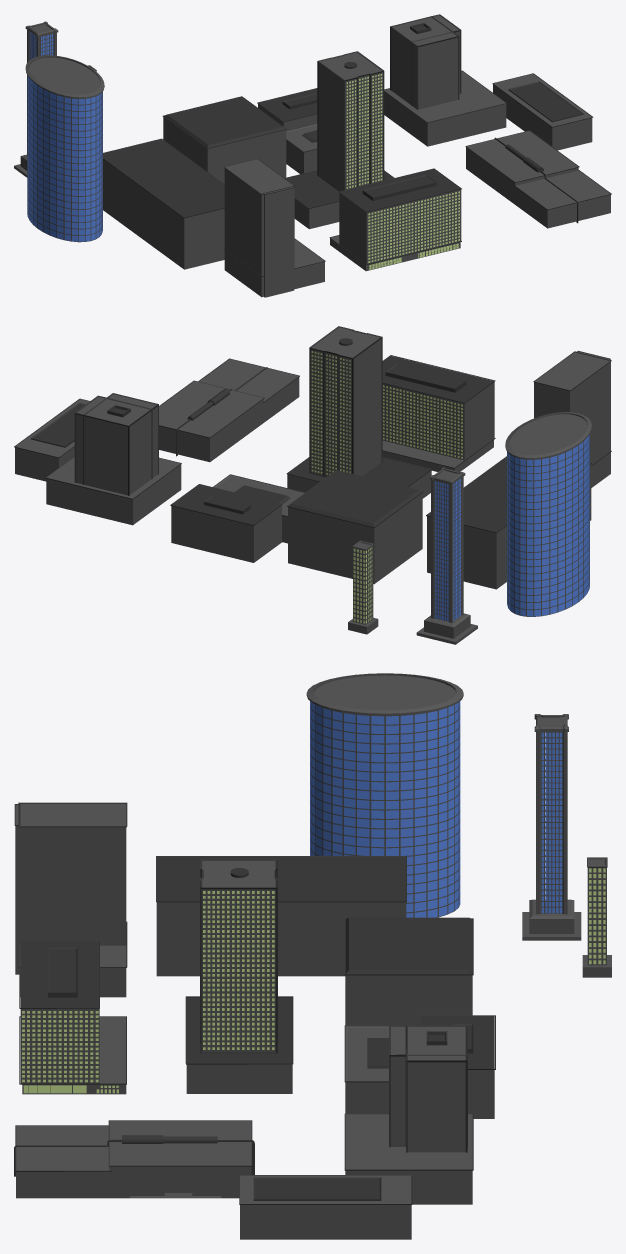
Rendered from city.glb.
3 renders of one model, top to bottom at view 1: azimuth 30°, elevation 25°; view 2: azimuth 150°, elevation 25°; view 3: azimuth 270°, elevation 25°, orthographic. The views are drawn at different scales.
Parts seen in each view (by area): view 1: RoofLine.002, b1, Cube, Cirw, b3, b2, Cylinder.003, Cir, RoofLine.003, RoofLine.006, b2w, RoofLine.005 (+1 smaller); view 2: b1, Cirw, Cube, RoofLine.003, b2, Cylinder.003, RoofLine.005, Cir, mainbw, b3, RoofLine.002, RoofLine.006 (+2 smaller); view 3: Cirw, b1, Cylinder.003, RoofLine.002, b3, Cube, Cir, RoofLine.003, b2, RoofLine.006, mainbw, RoofLine.005 (+2 smaller).
Part boxes in pixels (left/top/right/bottom): RoofLine.002: left=103, top=138, right=224, bottom=269; b1: left=285, top=51, right=394, bottom=229; Cube: left=384, top=14, right=506, bottom=146; Cirw: left=27, top=75, right=102, bottom=241; b3: left=223, top=158, right=325, bottom=297; b2: left=329, top=168, right=461, bottom=271; Cylinder.003: left=465, top=130, right=611, bottom=228; Cir: left=25, top=55, right=104, bottom=242; RoofLine.003: left=162, top=96, right=286, bottom=183; RoofLine.006: left=492, top=73, right=593, bottom=150; b2w: left=368, top=191, right=459, bottom=269; RoofLine.005: left=257, top=88, right=317, bottom=174; b1: left=286, top=326, right=432, bottom=498; Cirw: left=507, top=434, right=589, bottom=616; Cube: left=45, top=393, right=181, bottom=525; RoofLine.003: left=287, top=470, right=422, bottom=584; b2: left=382, top=355, right=495, bottom=471; Cylinder.003: left=159, top=358, right=299, bottom=462; RoofLine.005: left=170, top=474, right=304, bottom=562; Cir: left=505, top=412, right=591, bottom=616; mainbw: left=416, top=467, right=477, bottom=644; b3: left=533, top=350, right=611, bottom=487; RoofLine.002: left=426, top=456, right=591, bottom=589; RoofLine.006: left=14, top=398, right=89, bottom=481; Cirw: left=310, top=701, right=460, bottom=917; b1: left=185, top=859, right=293, bottom=1093; Cylinder.003: left=14, top=1120, right=254, bottom=1198; RoofLine.002: left=156, top=856, right=406, bottom=976; b3: left=14, top=802, right=127, bottom=997; Cube: left=344, top=1025, right=473, bottom=1204; Cir: left=306, top=673, right=463, bottom=917; RoofLine.003: left=344, top=917, right=473, bottom=1025; b2: left=19, top=940, right=126, bottom=1094; RoofLine.006: left=239, top=1175, right=412, bottom=1239; mainbw: left=522, top=714, right=581, bottom=940; RoofLine.005: left=344, top=1015, right=495, bottom=1118.
Size of what is drawn, in the model's own units: 15.93 by 4.44 by 11.27.
